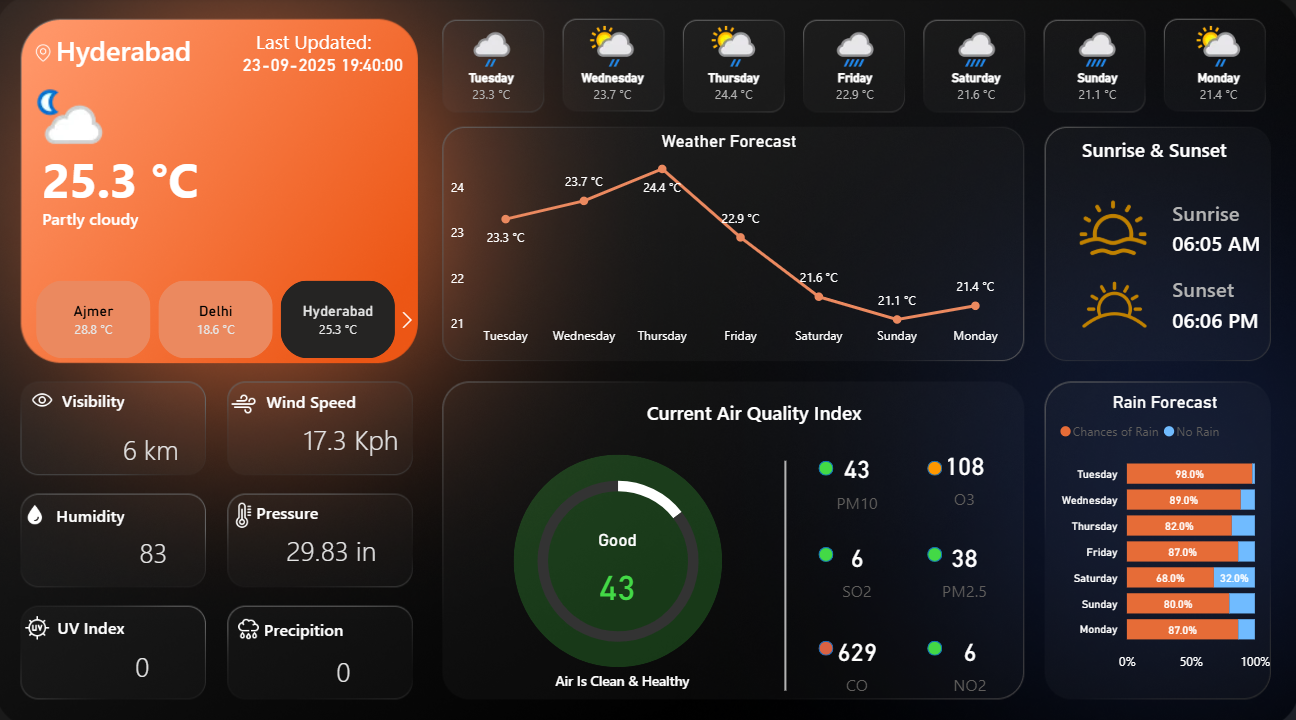

This screenshot's page, from the dashboard's own definition file:
{"tool":"powerbi","page":{"name":"Page 1","canvas":[1280,720],"ordinal":0},"visuals":[{"type":"advancedSlicerVisual","fields":{"Values":["Locations.location.name"]},"box":[15.3,273.3,404.3,86.5],"z":0},{"type":"shape","box":[45.4,121.5,193.9,112.9],"z":1000},{"type":"shape","box":[45.8,189.4,143.7,57.2],"z":2000},{"type":"shape","box":[58.4,32.4,242.6,40.2],"z":3000},{"type":"image","box":[30.5,42,30.5,26.7],"z":4000},{"type":"cardVisual","fields":{"Data":["Min(Current.current.condition.icon)"]},"box":[14.7,68.7,120.2,95.7],"z":5000},{"type":"image","box":[23.3,379.1,44.2,33.1],"z":6000},{"type":"shape","box":[45.4,374.2,81,41.7],"z":7000},{"type":"image","box":[23.3,484.7,29.4,46.6],"z":8000},{"type":"shape","box":[45.4,487.1,81,41.7],"z":9000},{"type":"shape","box":[45.4,597.5,81,41.7],"z":10000},{"type":"shape","box":[247.9,375.5,105.5,41.7],"z":11000},{"type":"shape","box":[235.6,484.7,81,41.7],"z":12000},{"type":"shape","box":[260.1,598.8,81,41.7],"z":13000},{"type":"image","box":[23.3,598.8,34.4,40.5],"z":14000},{"type":"image","box":[225.8,379.1,34.4,40.5],"z":15000},{"type":"image","box":[225.8,488.3,34.4,40.5],"z":16000},{"type":"image","box":[230.7,600,34.4,40.5],"z":17000},{"type":"card","fields":{"Values":["Sum(Current.current.humidity)"]},"box":[111.9,509.8,86.5,75],"z":18000},{"type":"card","fields":{"Values":["_Measures.visibility_unit"]},"box":[105.5,415.7,92.8,58.5],"z":19000},{"type":"card","fields":{"Values":["Current.Wind_Speed"]},"box":[277.2,399.2,142.4,73.7],"z":20000},{"type":"card","fields":{"Values":["_Measures.Pressure_Unit"]},"box":[260.6,506,138.6,78.8],"z":21000},{"type":"card","fields":{"Values":["Sum(Current.current.precip_in)"]},"box":[298.8,630.6,86.5,64.8],"z":22000},{"type":"card","fields":{"Values":["Sum(Current.current.uv)"]},"box":[100.4,620.4,86.5,75],"z":23000},{"type":"card","fields":{"Values":["Min(Current.location.localtime)"]},"box":[230.1,43.2,180.5,48.3],"z":24000},{"type":"textbox","box":[250.5,25.4,133.5,35.6],"z":25000},{"type":"advancedSlicerVisual","fields":{"Values":["Forecast_Day.Forecast_Days"]},"box":[428.4,15.3,835.3,115.7],"z":26000},{"type":"lineChart","title":"Weather Forecast","fields":{"Y":["Sum(Forecast_Day.forecast.forecastday.day.avgtemp_c)"],"Category":["Forecast_Day.Forecast_Days"]},"box":[441.2,130.9,555.6,219.9],"z":27000},{"type":"shape","box":[1064.9,121.9,144,57.1],"z":28000},{"type":"shape","box":[1154.4,226.3,90.3,29.2],"z":29000},{"type":"shape","box":[1154.4,300,90.3,31.8],"z":30000},{"type":"shape","box":[1154.4,189.4,90.3,45.8],"z":31000},{"type":"shape","box":[1154.4,264.4,90.3,42],"z":32000},{"type":"image","box":[1050.1,255.5,95.4,94.1],"z":33000},{"type":"image","box":[1059,189.4,75,75],"z":34000},{"type":"hundredPercentStackedBarChart","title":"Rain Forecast","fields":{"Category":["Forecast_Day.Forecast_Days"],"Y":["Sum(Forecast_Day.forecast.forecastday.day.daily_chance_of_rain)","_Measures.Left_Value of Rain"]},"box":[1039,387.8,216.6,282.8],"z":35000},{"type":"shape","box":[630.4,378.8,227,57.1],"z":36000},{"type":"card","fields":{"Values":["Sum(Current.current.air_quality.o3)"]},"box":[905.4,435.8,90.8,70],"z":37000},{"type":"card","fields":{"Values":["Sum(Current.current.air_quality.pm10)"]},"box":[800.3,439.7,90.8,70],"z":38000},{"type":"card","fields":{"Values":["Sum(Current.current.air_quality.so2)"]},"box":[800.3,526.6,90.8,70],"z":39000},{"type":"card","fields":{"Values":["Sum(Current.current.air_quality.pm2_5)"]},"box":[905.4,526.6,90.8,70],"z":40000},{"type":"card","fields":{"Values":["Sum(Current.current.air_quality.no2)"]},"box":[905.4,618.7,101.2,70],"z":41000},{"type":"card","fields":{"Values":["Sum(Current.current.air_quality.co)"]},"box":[800.3,618.7,90.8,70],"z":42000},{"type":"shape","box":[807.4,455.2,14.7,14.7],"z":43000},{"type":"shape","box":[508.5,448.8,204.9,208.8],"z":43500},{"type":"shape","box":[807.4,539.9,14.7,14.7],"z":44000},{"type":"shape","box":[807.4,631.9,14.7,14.7],"z":45000},{"type":"shape","box":[914.1,455.2,14.7,14.7],"z":46000},{"type":"shape","box":[914.1,539.9,14.7,14.7],"z":47000},{"type":"donutChart","fields":{"Y":["Sum(Current.current.air_quality.pm10)","_Measures.left_value_PM10"]},"box":[502,450.1,217.9,207.5],"z":47500},{"type":"shape","box":[914.1,631.9,14.7,14.7],"z":48000},{"type":"shape","box":[762.7,455.3,23.3,225.7],"z":49000},{"type":"card","fields":{"Values":["Sum(Current.current.air_quality.pm10)"]},"box":[526.6,522.7,167.3,90.8],"z":50000},{"type":"shape","box":[455.3,642.1,319.1,57.1],"z":50001}]}

Visuals, with their boxes in screenshot pixels (x1, y1, x2, y2), scaled from the page's 1280x720 canvas onto the 1296x720 screenshot:
advancedSlicerVisual - Locations.location.name: detection(15, 273, 425, 360)
shape: detection(46, 122, 242, 234)
shape: detection(46, 189, 192, 247)
shape: detection(59, 32, 305, 73)
image: detection(31, 42, 62, 69)
cardVisual - Min(Current.current.condition.icon): detection(15, 69, 137, 164)
image: detection(24, 379, 68, 412)
shape: detection(46, 374, 128, 416)
image: detection(24, 485, 53, 531)
shape: detection(46, 487, 128, 529)
shape: detection(46, 598, 128, 639)
shape: detection(251, 376, 358, 417)
shape: detection(239, 485, 321, 526)
shape: detection(263, 599, 345, 640)
image: detection(24, 599, 58, 639)
image: detection(229, 379, 263, 420)
image: detection(229, 488, 263, 529)
image: detection(234, 600, 268, 640)
card - Sum(Current.current.humidity): detection(113, 510, 201, 585)
card - _Measures.visibility_unit: detection(107, 416, 201, 474)
card - Current.Wind_Speed: detection(281, 399, 425, 473)
card - _Measures.Pressure_Unit: detection(264, 506, 404, 585)
card - Sum(Current.current.precip_in): detection(303, 631, 390, 695)
card - Sum(Current.current.uv): detection(102, 620, 189, 695)
card - Min(Current.location.localtime): detection(233, 43, 416, 92)
textbox: detection(254, 25, 389, 61)
advancedSlicerVisual - Forecast_Day.Forecast_Days: detection(434, 15, 1279, 131)
"Weather Forecast" lineChart: detection(447, 131, 1009, 351)
shape: detection(1078, 122, 1224, 179)
shape: detection(1169, 226, 1260, 256)
shape: detection(1169, 300, 1260, 332)
shape: detection(1169, 189, 1260, 235)
shape: detection(1169, 264, 1260, 306)
image: detection(1063, 256, 1160, 350)
image: detection(1072, 189, 1148, 264)
"Rain Forecast" hundredPercentStackedBarChart: detection(1052, 388, 1271, 671)
shape: detection(638, 379, 868, 436)
card - Sum(Current.current.air_quality.o3): detection(917, 436, 1009, 506)
card - Sum(Current.current.air_quality.pm10): detection(810, 440, 902, 510)
card - Sum(Current.current.air_quality.so2): detection(810, 527, 902, 597)
card - Sum(Current.current.air_quality.pm2_5): detection(917, 527, 1009, 597)
card - Sum(Current.current.air_quality.no2): detection(917, 619, 1019, 689)
card - Sum(Current.current.air_quality.co): detection(810, 619, 902, 689)
shape: detection(817, 455, 832, 470)
shape: detection(515, 449, 722, 658)
shape: detection(817, 540, 832, 555)
shape: detection(817, 632, 832, 647)
shape: detection(926, 455, 940, 470)
shape: detection(926, 540, 940, 555)
donutChart - Sum(Current.current.air_quality.pm10) x _Measures.left_value_PM10: detection(508, 450, 729, 658)
shape: detection(926, 632, 940, 647)
shape: detection(772, 455, 796, 681)
card - Sum(Current.current.air_quality.pm10): detection(533, 523, 703, 614)
shape: detection(461, 642, 784, 699)
